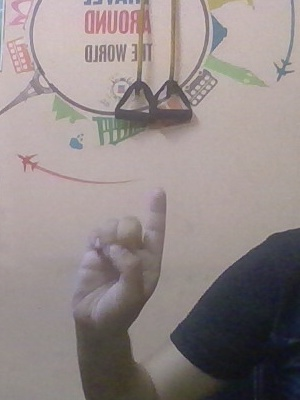D: (67, 186, 170, 339)
